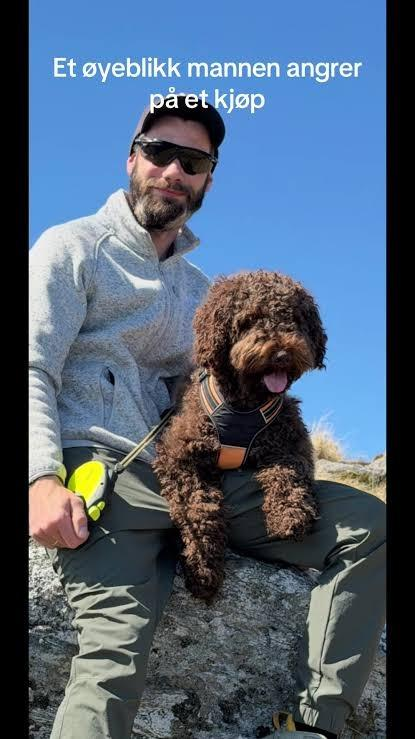adult_dog: (153, 269, 329, 600)
non-dog: (22, 100, 384, 737)
